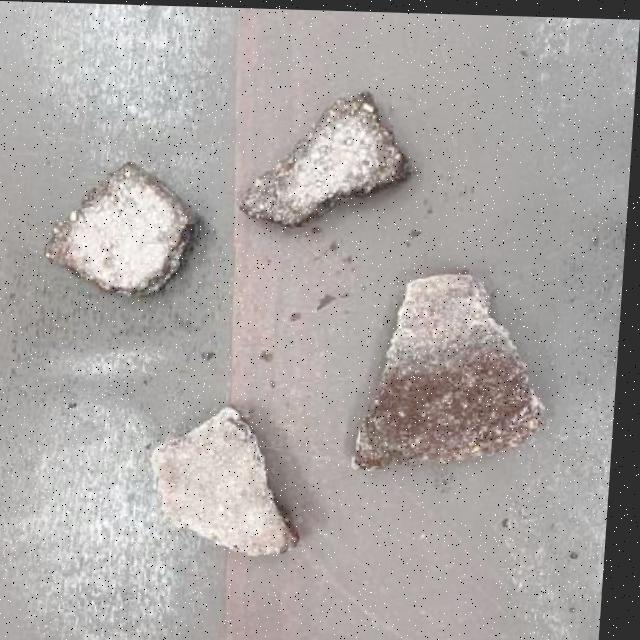Road Debris: (366, 351, 549, 481), (243, 100, 404, 220), (56, 160, 195, 287), (174, 421, 279, 518)
